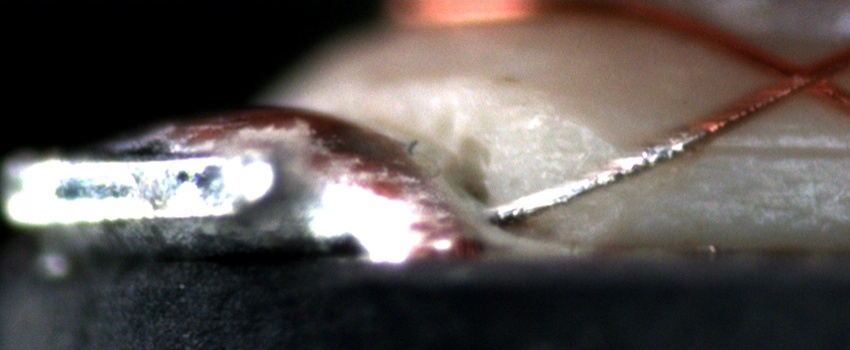CL: (761, 49, 842, 104)
DL: (694, 122, 850, 177)
TS: (492, 129, 700, 221)
